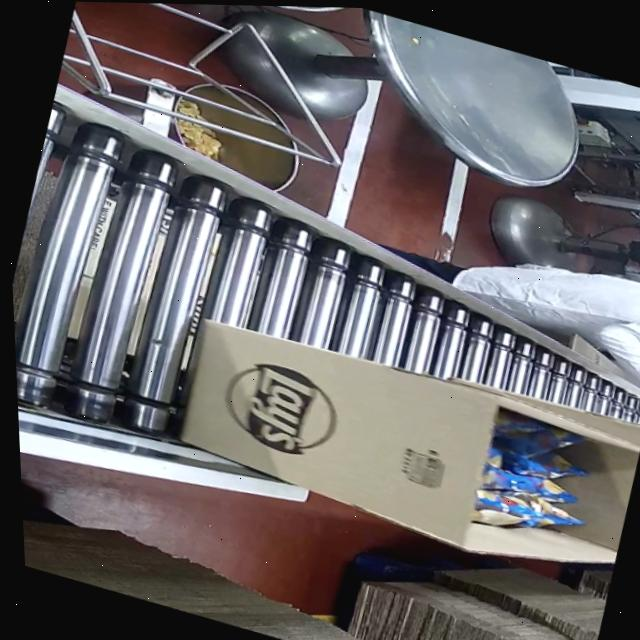PAPRIKA: (463, 400, 613, 556)
